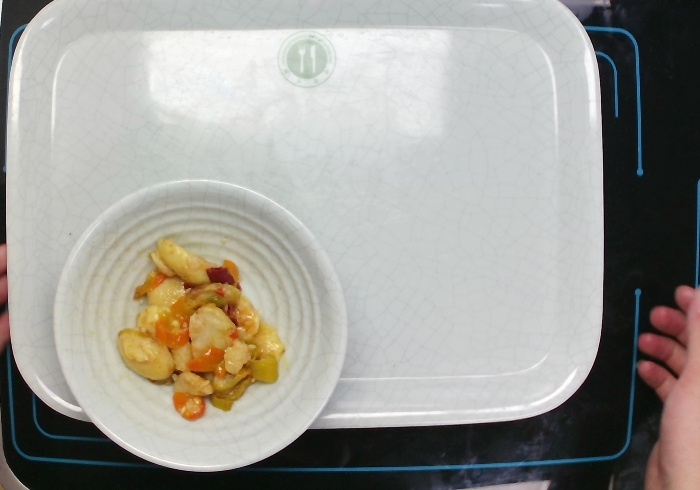JYsf-Xiao_Tang_Wan: (46, 174, 354, 477)
